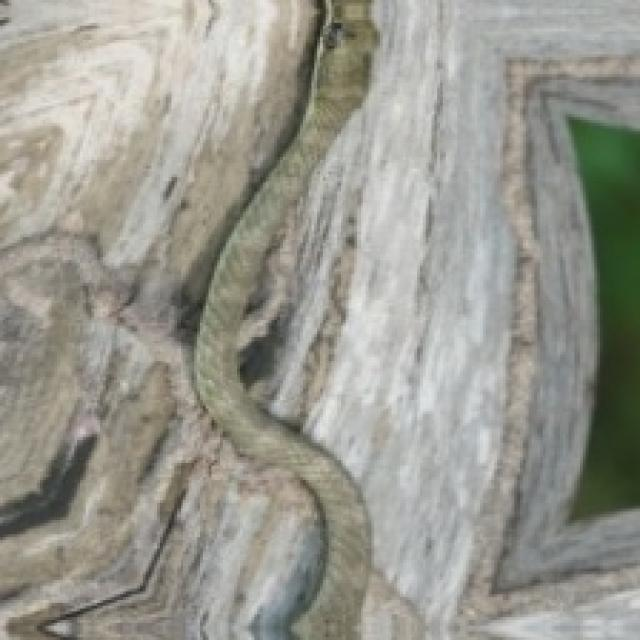paradise tree snake: (194, 0, 637, 637)
